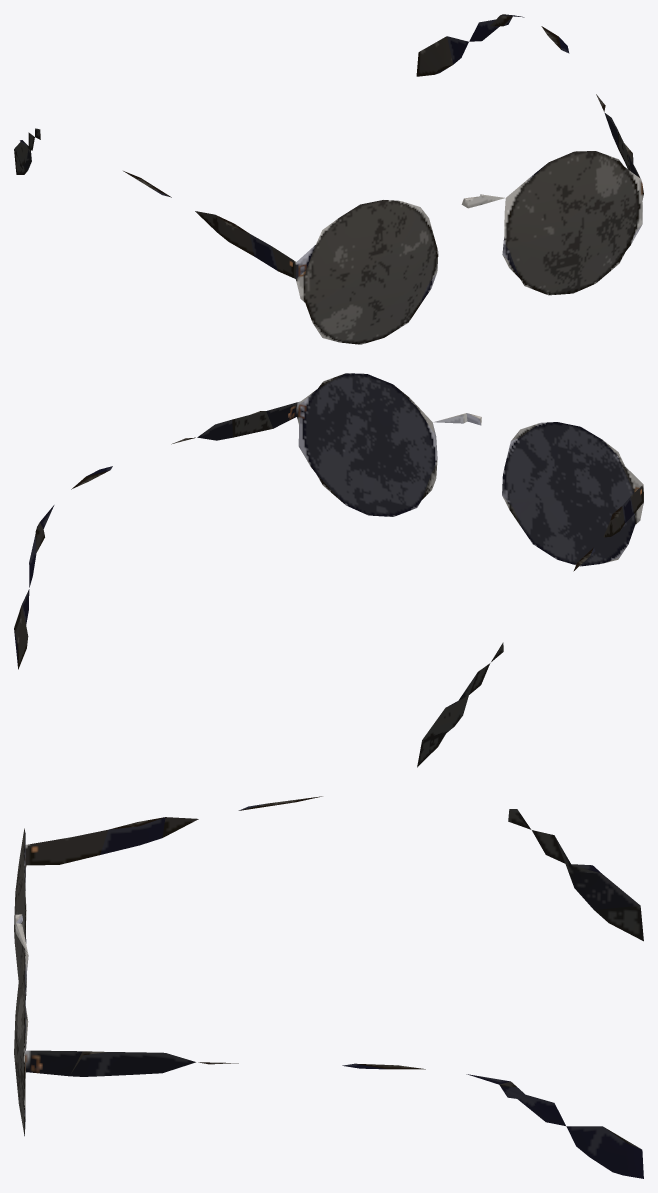
File: round_spectacles.glb
3 views of the same model, one above another, from view 1: azimuth 30°, elevation 25°; view 2: azimuth 150°, elevation 25°; view 3: azimuth 270°, elevation 25° (orthographic). The views are drawn at different scales.
Parts seen in each view (by area): view 1: mesh; view 2: mesh; view 3: mesh.
Boxes of the visible parts, box(x1,y1,x2,y2) form: mesh: box(14, 14, 643, 344); mesh: box(14, 373, 643, 767); mesh: box(14, 796, 643, 1178).
Bounding box in the file's own units: 0.1611 × 0.0463 × 0.153.
Materials: 1 (1 with a texture image).
